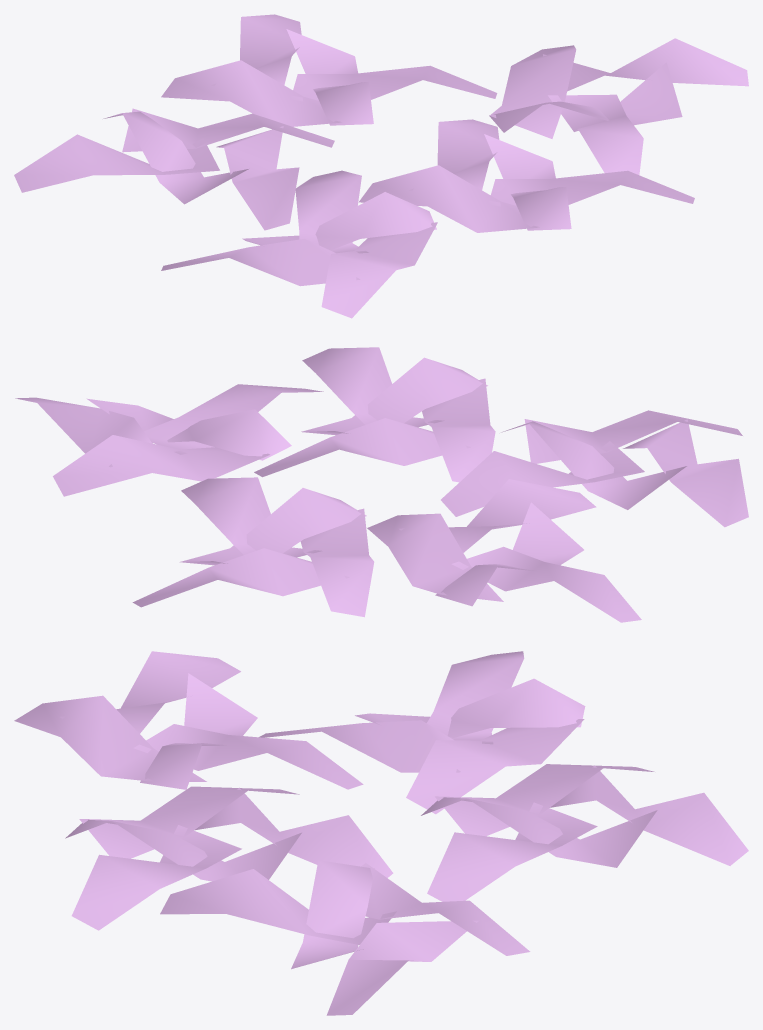
The picture shows the model from 3 angles, top to bottom: view 1: azimuth 30°, elevation 25°; view 2: azimuth 150°, elevation 25°; view 3: azimuth 270°, elevation 25°; orthographic projection. The views are drawn at different scales.
Visible parts, largest first — view 1: Object16; view 2: Object16; view 3: Object16.
Part boxes in pixels (x1=…): Object16: x1=14, y1=14, x2=748, y2=318; Object16: x1=15, y1=347, x2=748, y2=622; Object16: x1=14, y1=651, x2=748, y2=1015.
Bounding box in the file's own units: 483 × 28.92 × 409.
